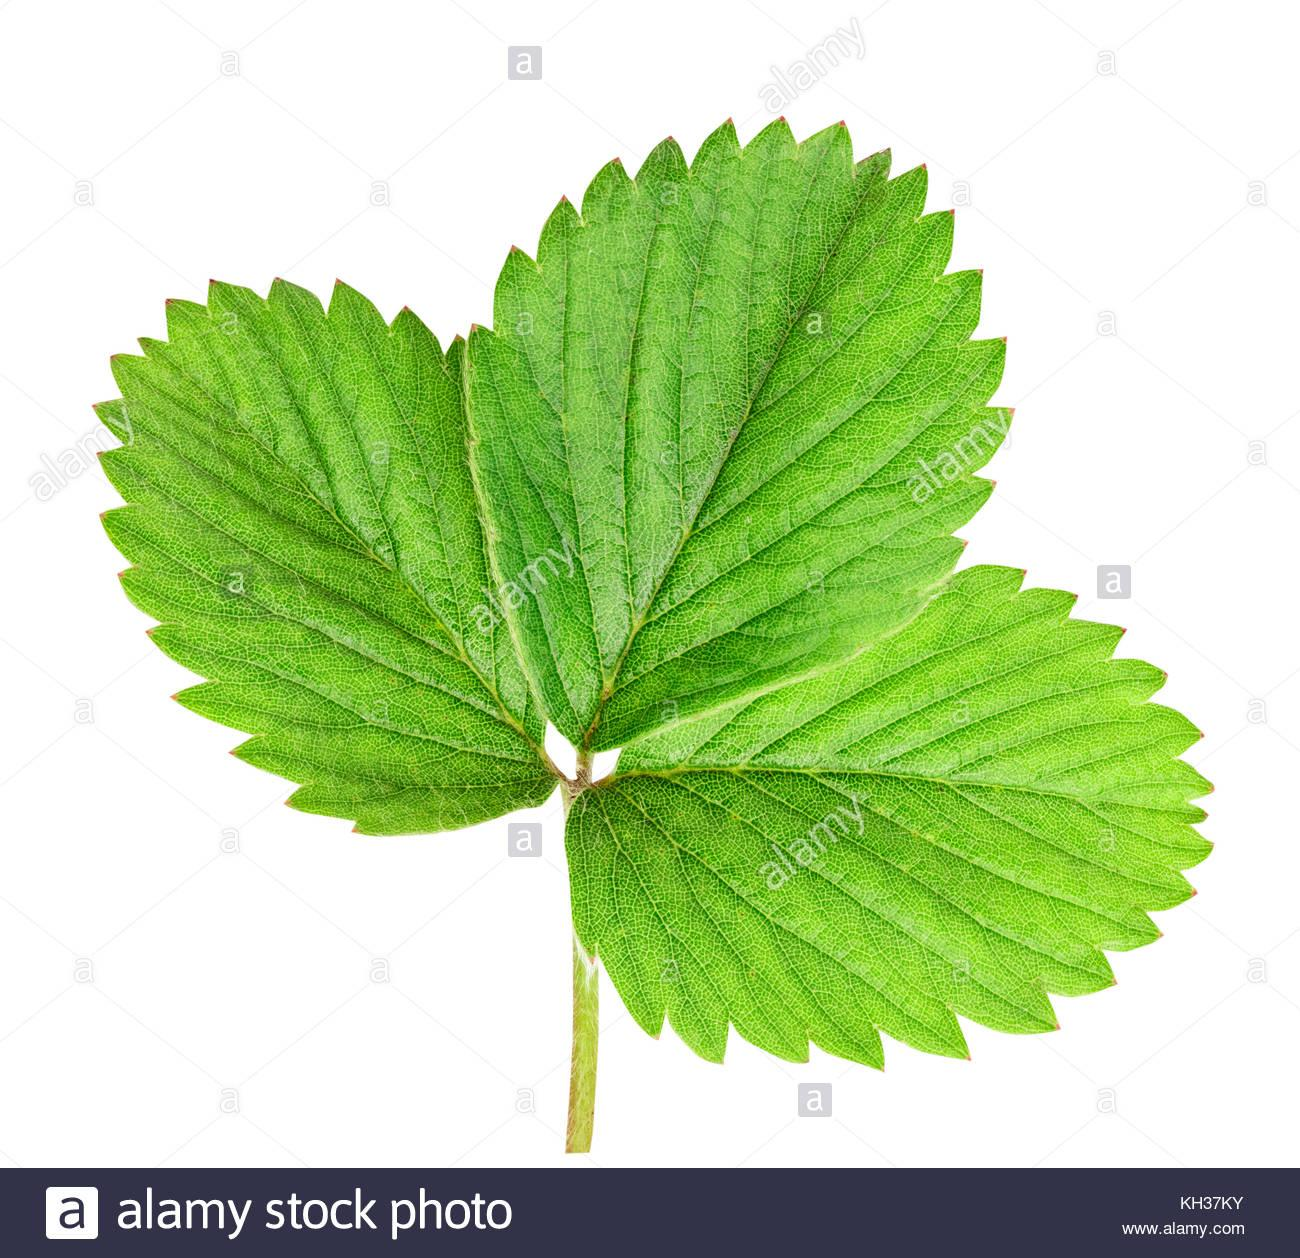Strawberry leaf: (455, 49, 1012, 772), (566, 538, 1230, 1106), (73, 253, 564, 831)
